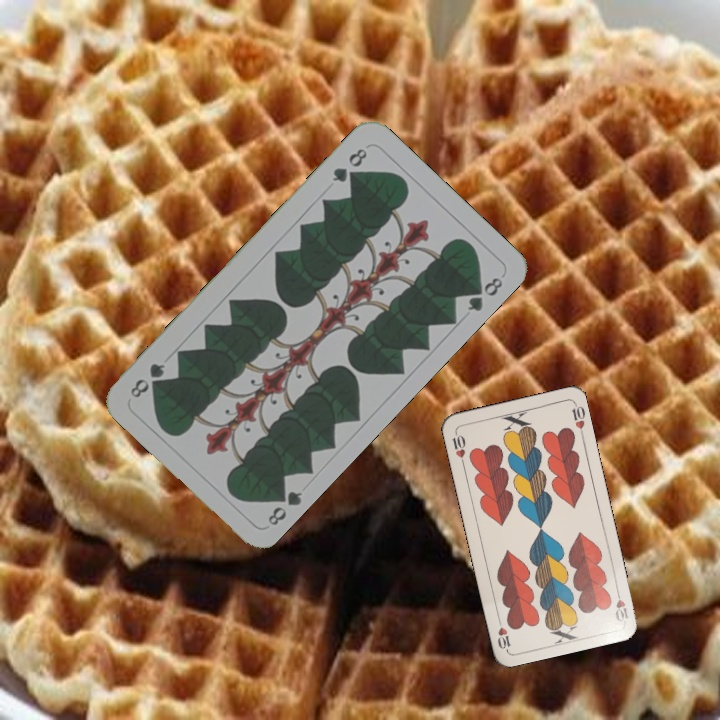G8: (263, 483, 305, 528), (328, 144, 370, 186)
H10: (448, 428, 468, 468), (611, 584, 631, 624)
